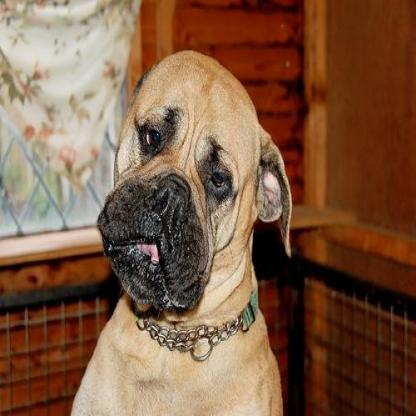bull_mastiff: (68, 49, 291, 414)
